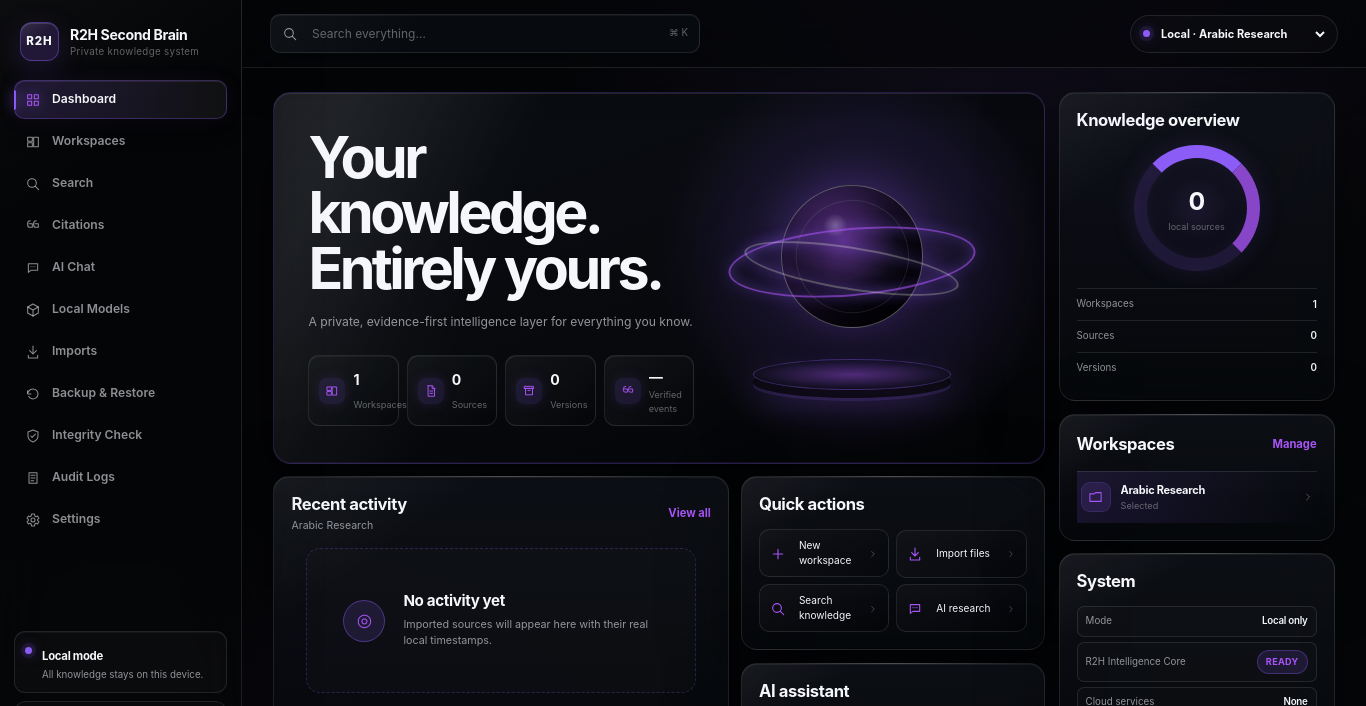
Test case: R2H Second Brain desktop interface › shows a clear audit verification failure banner
Click the button "Audit Logs" at (120, 478), box [14,458,227,497]
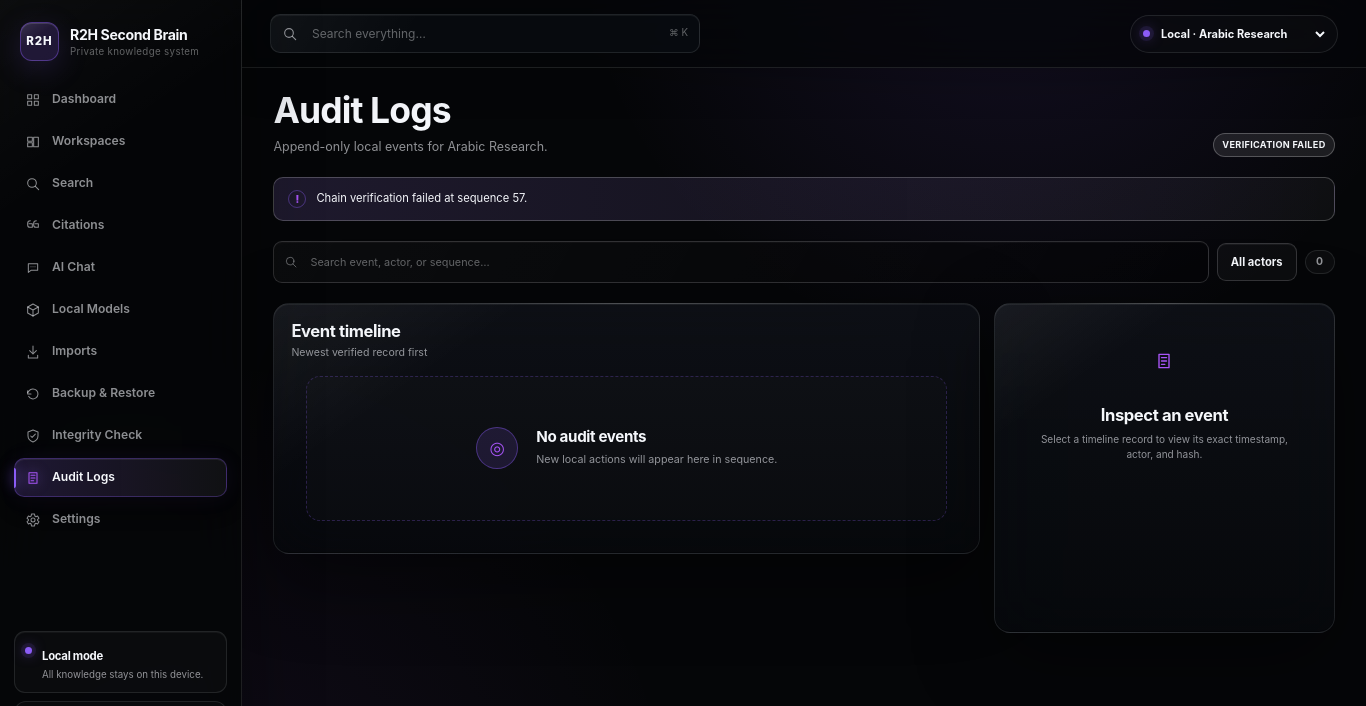
Result: the message shows "Chain verification failed at sequence 57" at [316,191,527,205]
